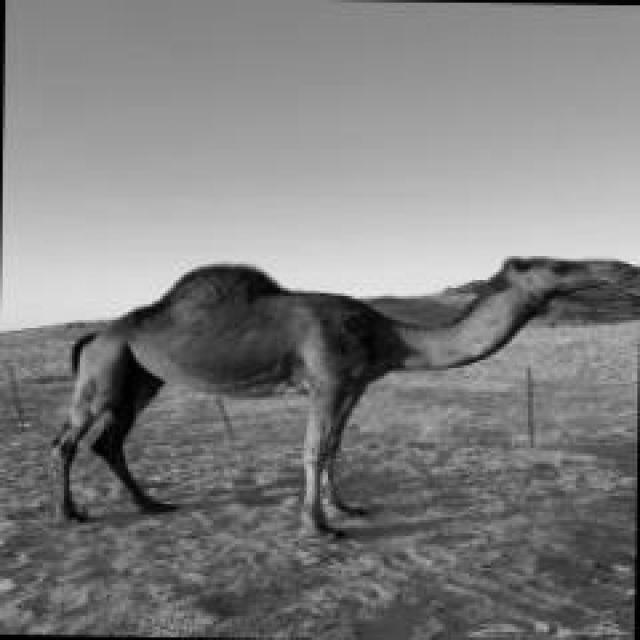Camel: (45, 253, 638, 547)
